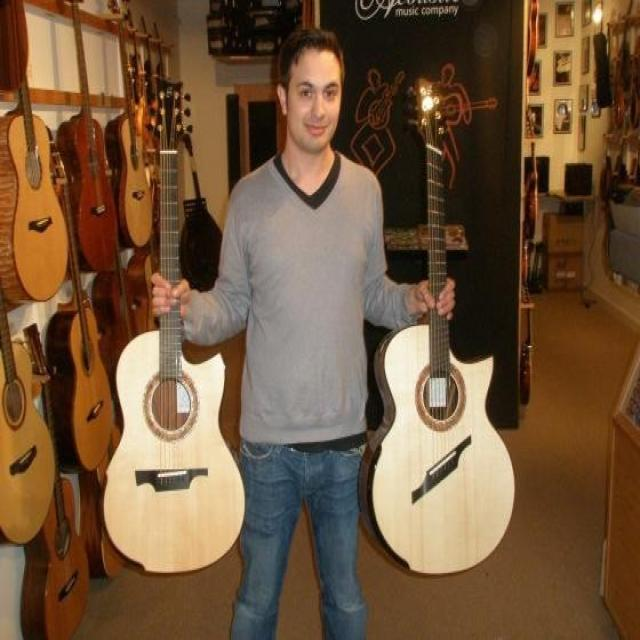guitar: (348, 75, 517, 571), (103, 77, 249, 579), (19, 321, 91, 640), (48, 149, 113, 471), (0, 8, 70, 298), (57, 0, 120, 274), (0, 239, 55, 545), (100, 0, 153, 247), (96, 234, 134, 349), (127, 223, 163, 334), (515, 271, 538, 407), (519, 109, 541, 238), (527, 0, 539, 79)
